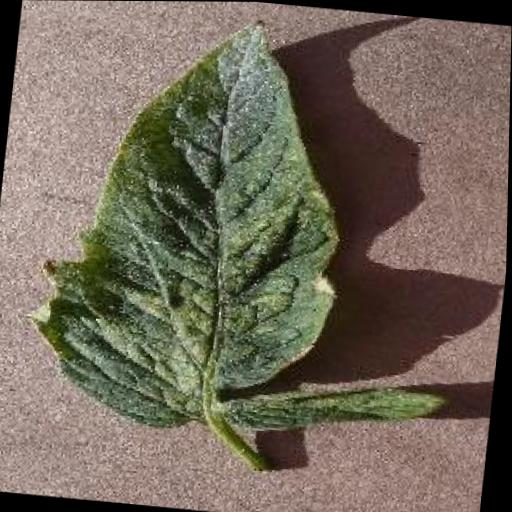Spider Mites: (21, 0, 484, 453)
